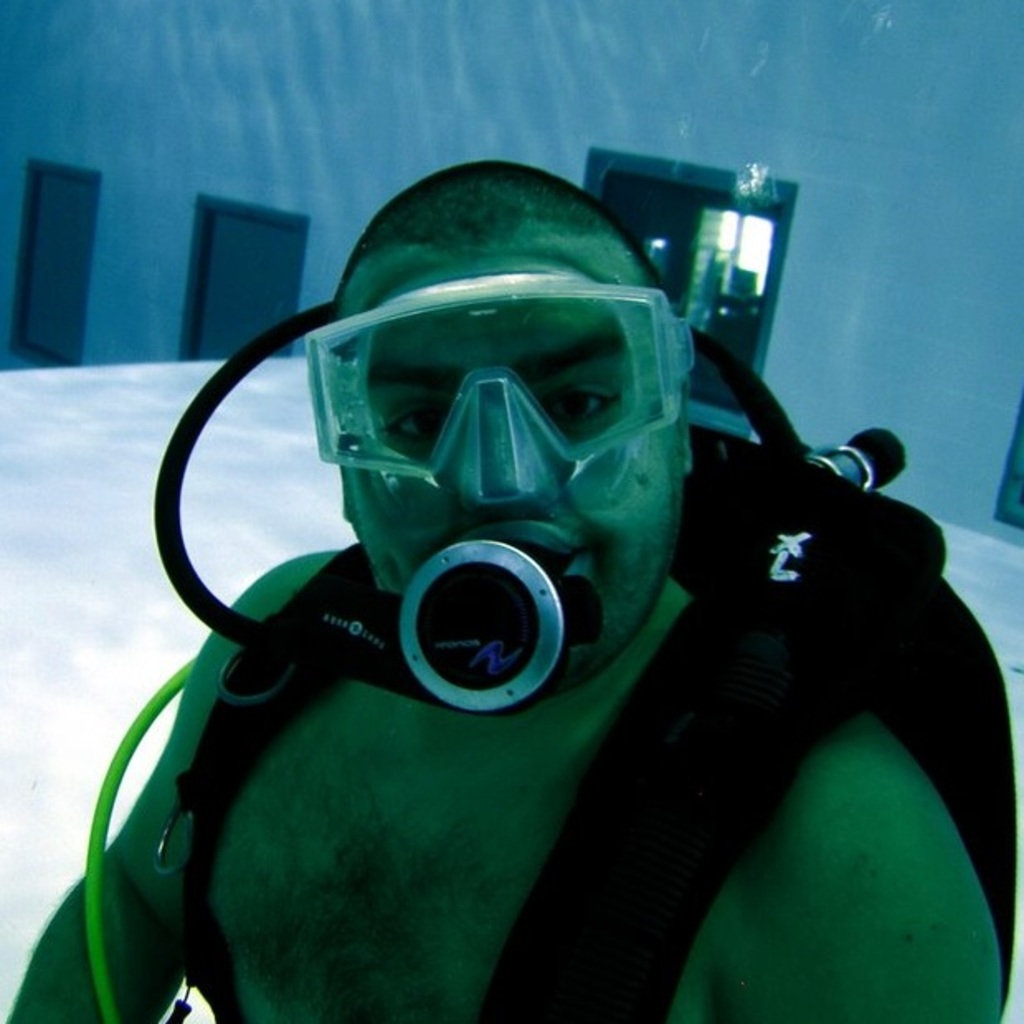Person: (4, 155, 1004, 1022)
